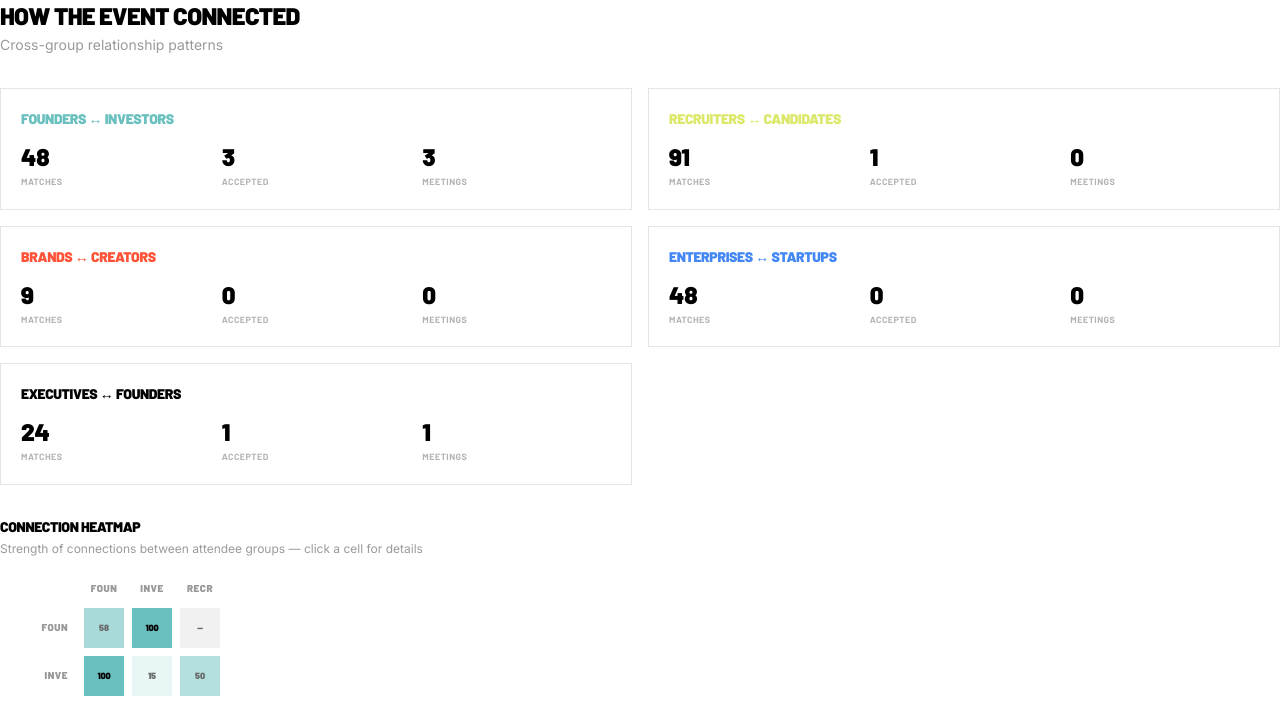
it: RelationshipsTab — pair cards › flags the loose mappings in the card popover
Click the button "Recruiters ↔ Candidates 91 MATCHES 1 ACCEPTED 0 MEETINGS": (755, 118) left=648, top=88, right=1279, bottom=210
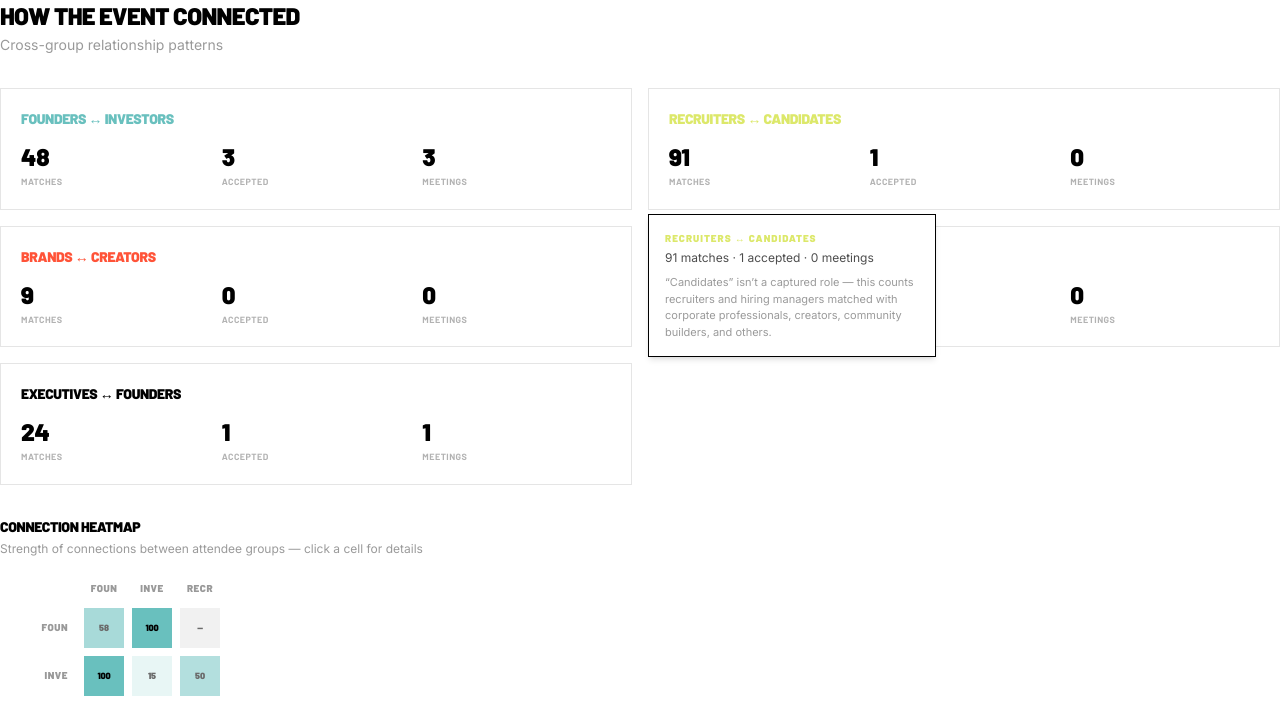
Expected: the text "isn.t a captured role" is shown, left=665, top=275, right=914, bottom=338
